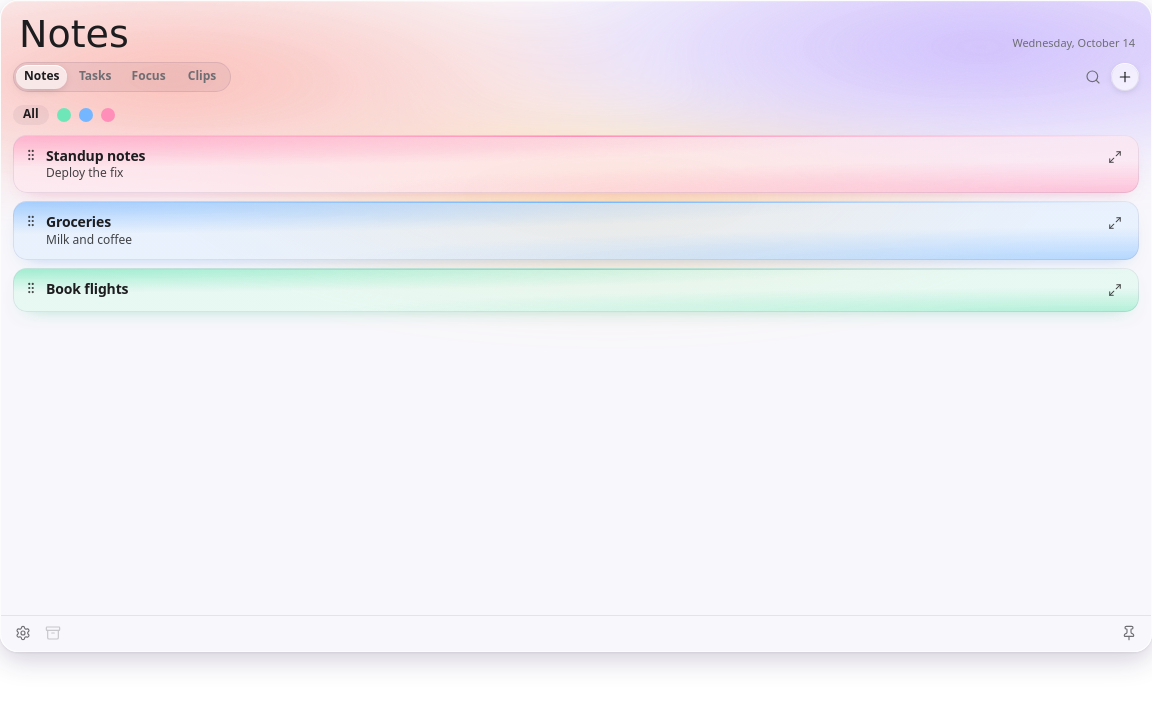
it: colour filter › filters to a colour and clears when the dot is clicked again
The image size is (1152, 720).
Expected: the text "Standup notes" is shown, [46,146,145,165]
Click the button named "Pink" at coordinates (108, 115), box [101,108,115,122]
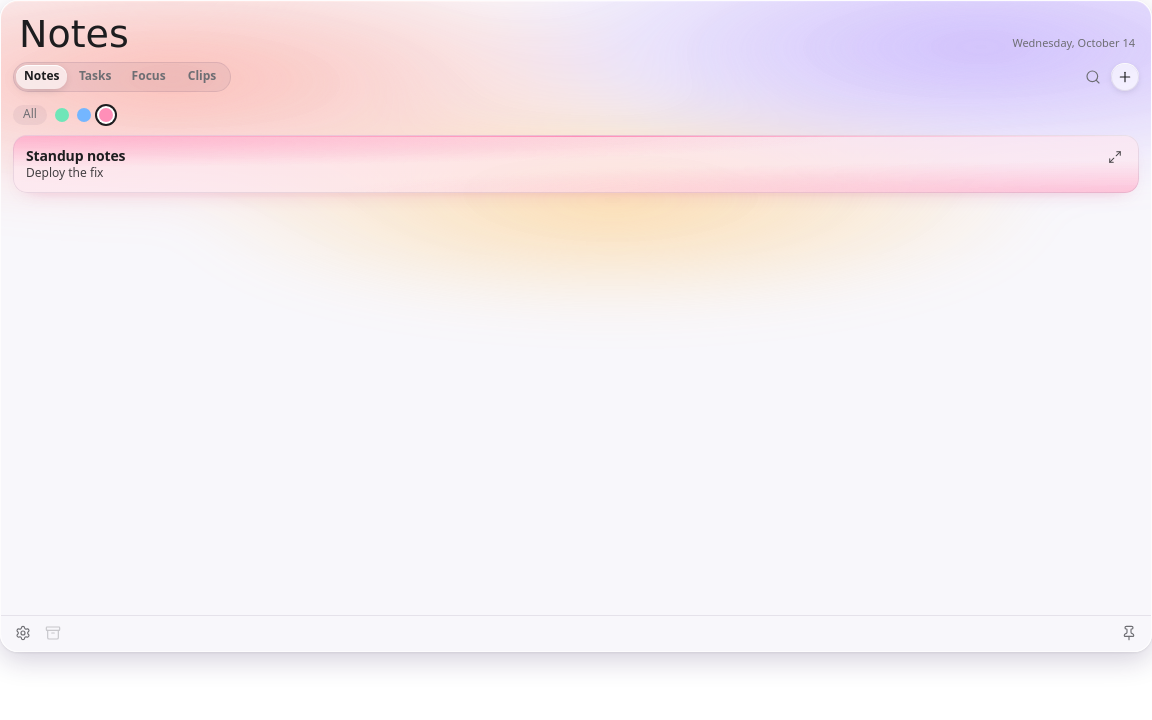
Expected: the text "Standup notes" is shown, [26,146,125,165]
Now the text "Groceries" is gone
Click the button named "Pink" at coordinates (106, 115), box [99,108,113,122]
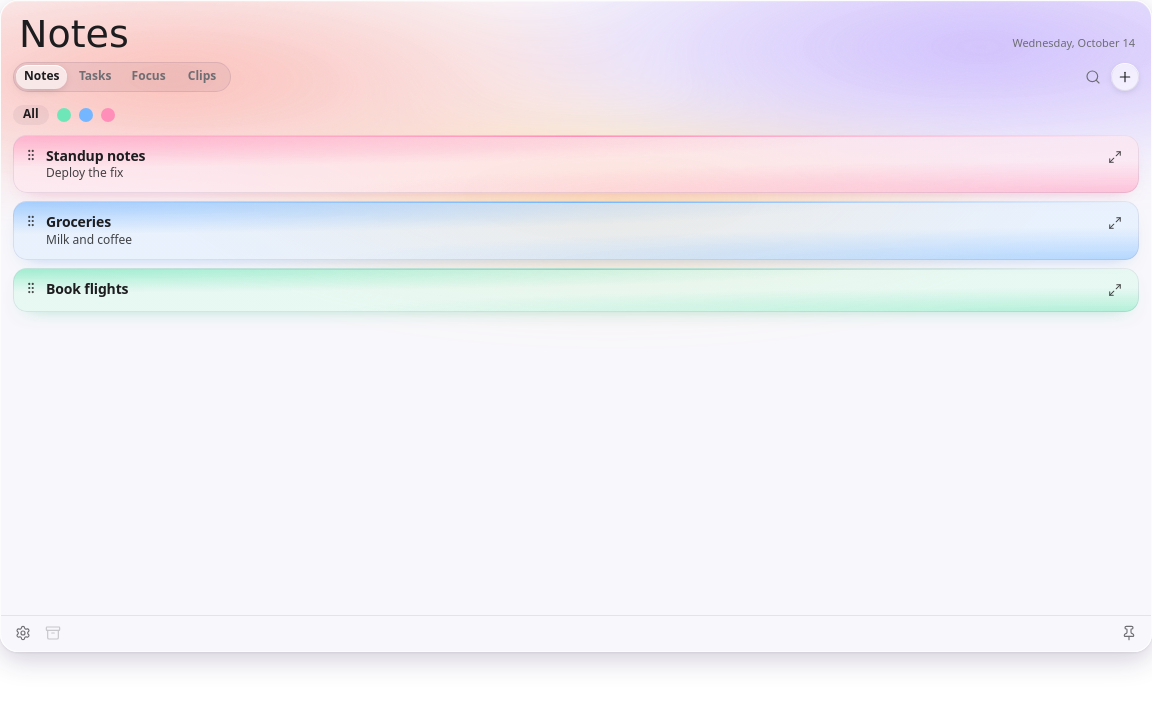
Now the text "Groceries" is shown, box [46,212,111,231]
